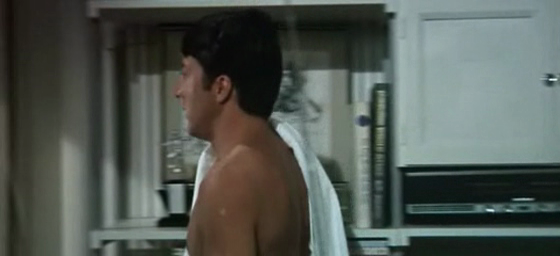face: (174, 54, 208, 137)
mcu: (1, 1, 560, 256)
person: (174, 8, 310, 256)
